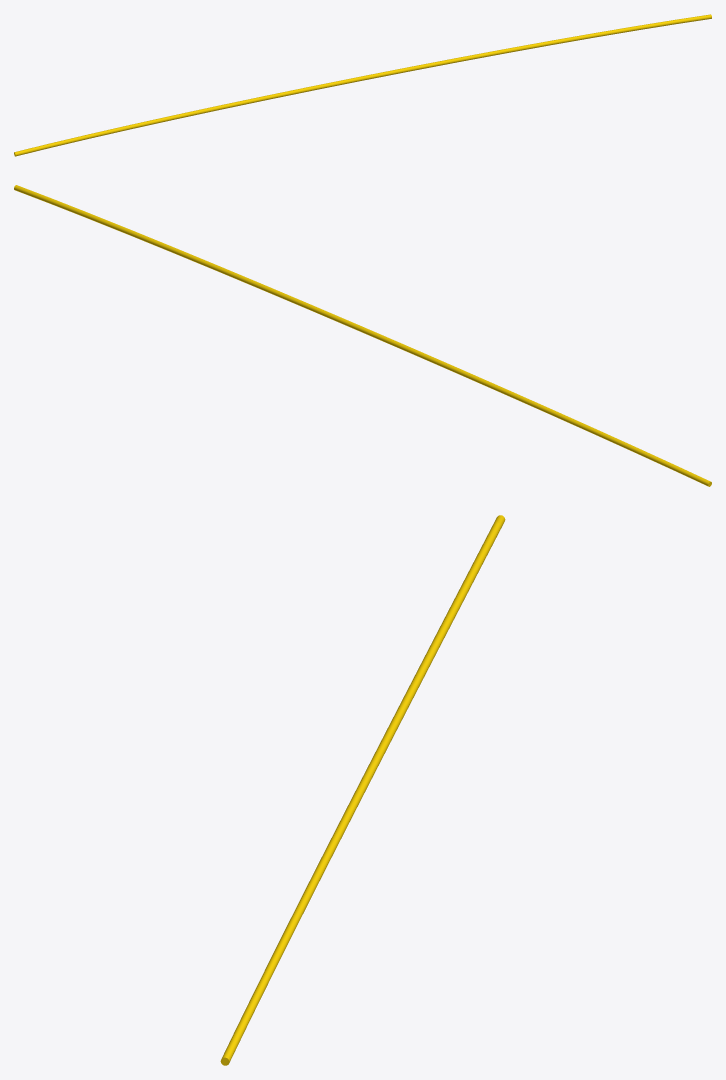
The model's file is Event_421556567_track_14.fbx.
The picture shows the model from 3 angles, top to bottom: view 1: azimuth 30°, elevation 25°; view 2: azimuth 150°, elevation 25°; view 3: azimuth 270°, elevation 25°; orthographic projection. The views are drawn at different scales.
Parts seen in each view (by area): view 1: Model; view 2: Model; view 3: Model.
Part boxes in pixels (box(x1,y1,x2,y2)): Model: box(14, 14, 711, 156); Model: box(14, 185, 711, 486); Model: box(220, 515, 505, 1065).
Size of the model in its own units: 6.47 by 0.3855 by 1.27.
